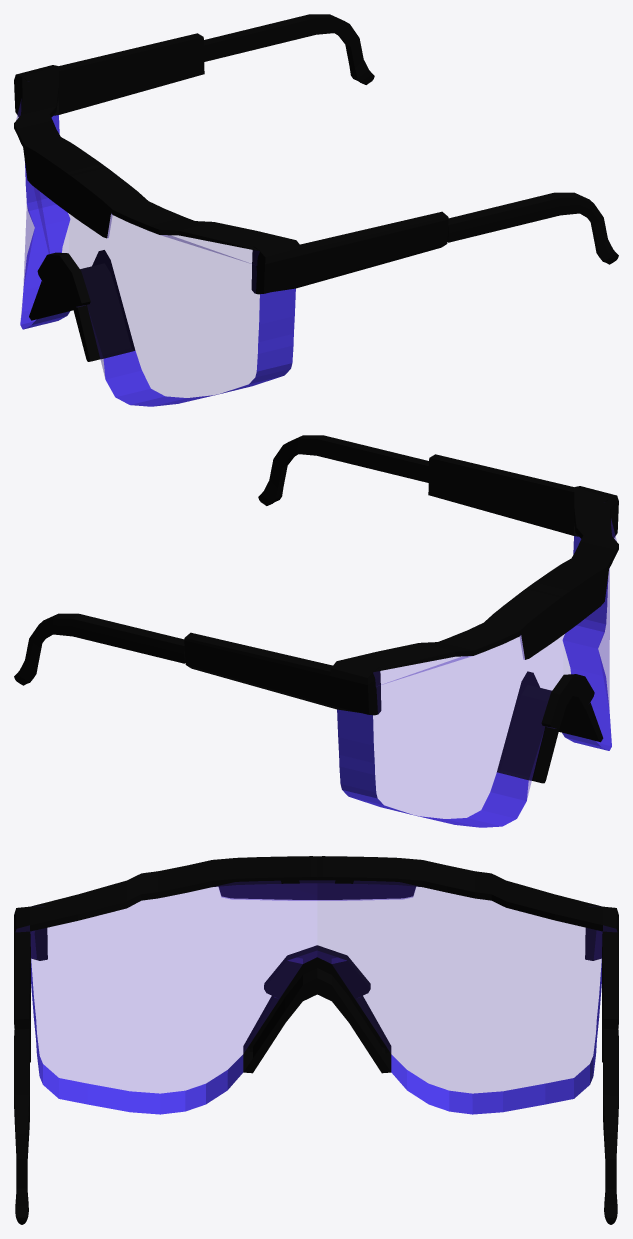
Rendered from pitVipers.glb.
3 views of the same model, one above another, from view 1: azimuth 30°, elevation 25°; view 2: azimuth 150°, elevation 25°; view 3: azimuth 270°, elevation 25° (orthographic). The views are drawn at different scales.
Parts seen in each view (by area): view 1: Cylinder; view 2: Cylinder; view 3: Cylinder.
Part boxes in pixels (box(x1,y1,x2,y2)): Cylinder: box(14, 14, 618, 406); Cylinder: box(14, 435, 618, 827); Cylinder: box(14, 856, 618, 1224).
Size of the model in its own units: 1.1 by 0.4618 by 1.1.
